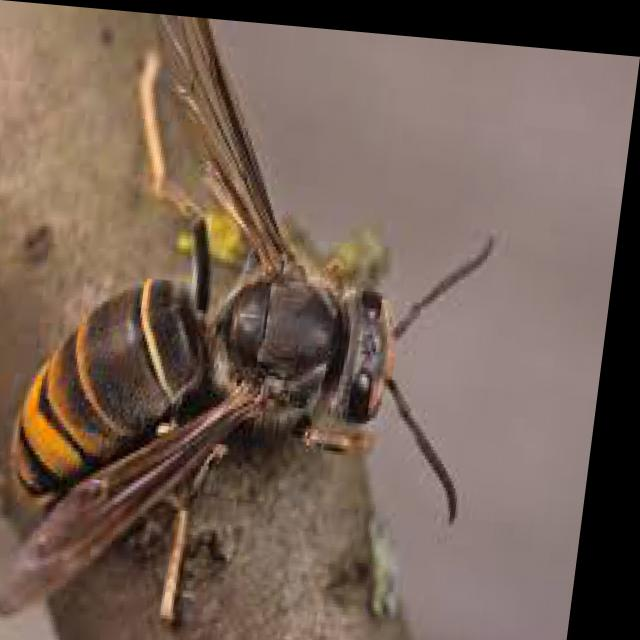Vespa Velutina: (0, 3, 526, 639)
